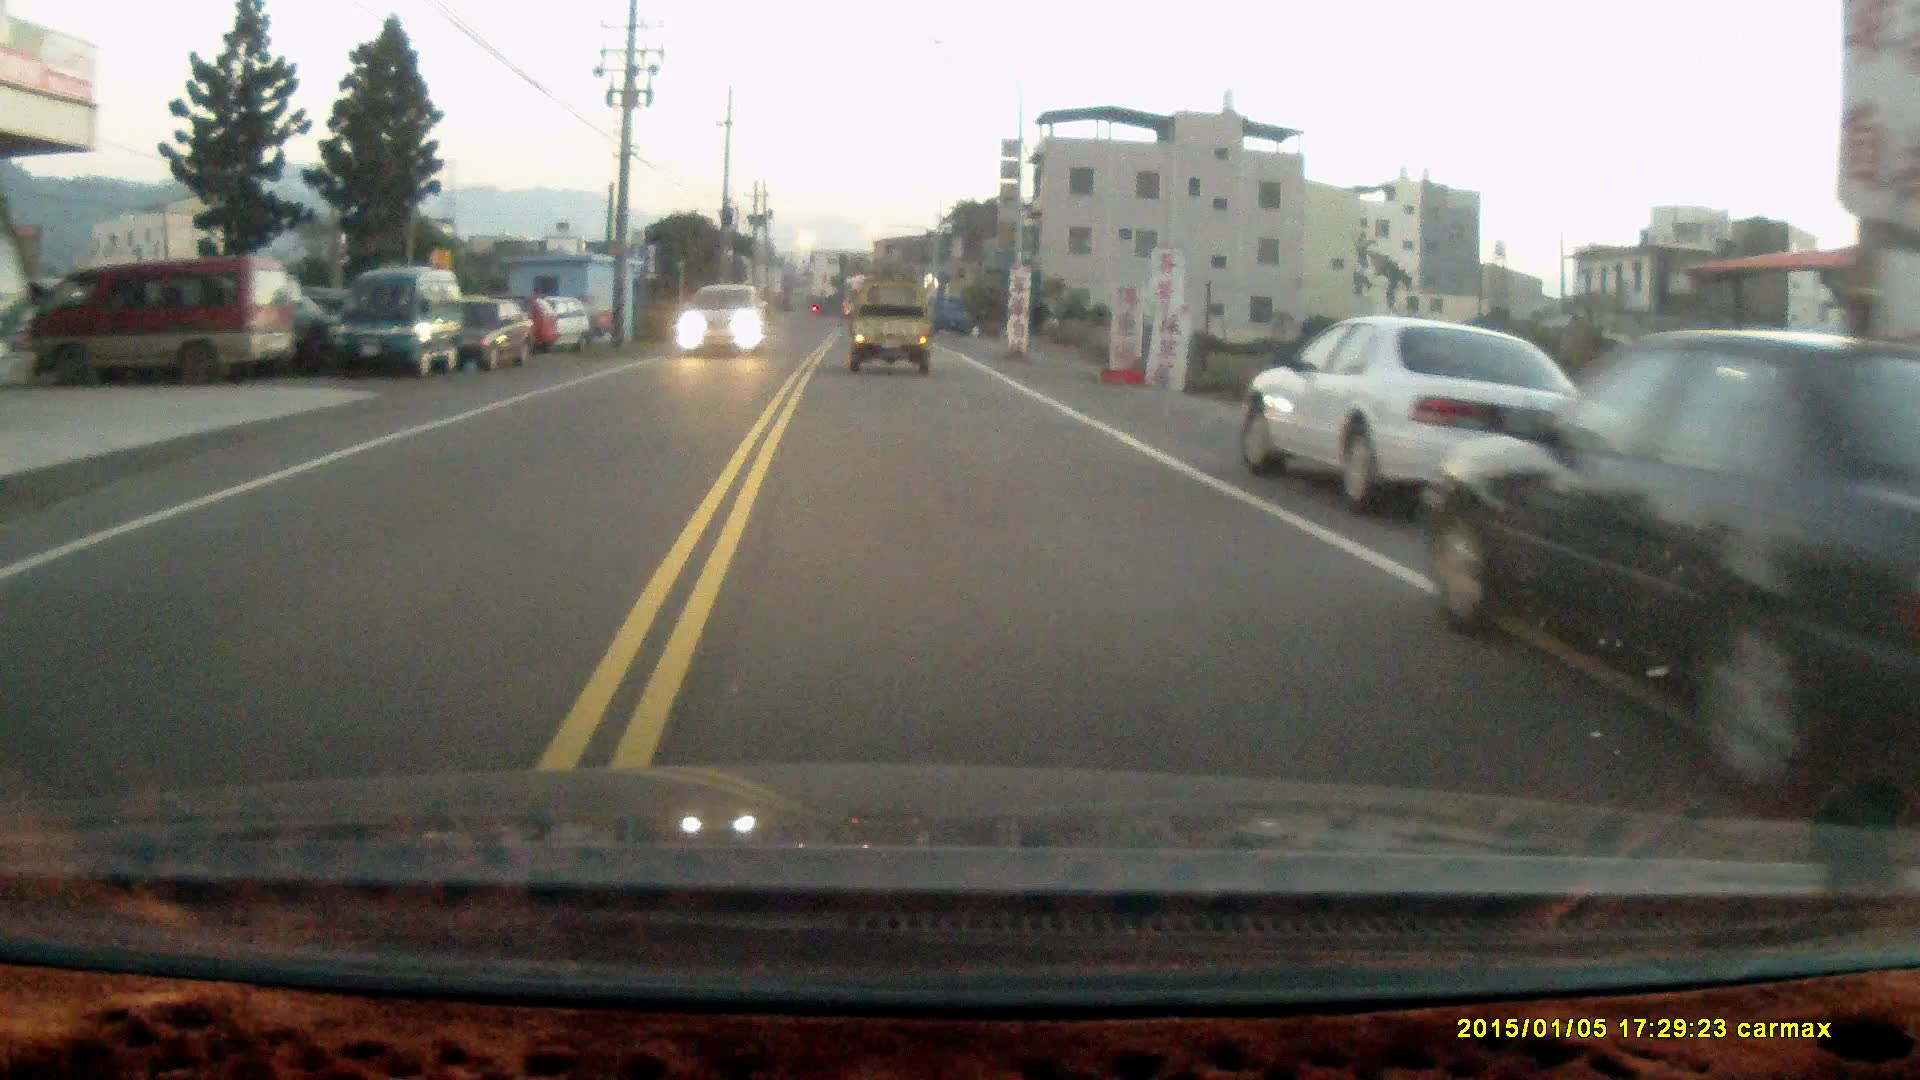vehicle: (1429, 320, 1919, 818), (1240, 316, 1594, 516), (13, 258, 284, 382), (331, 265, 467, 378), (851, 281, 935, 372), (676, 281, 771, 357), (463, 294, 535, 378)
